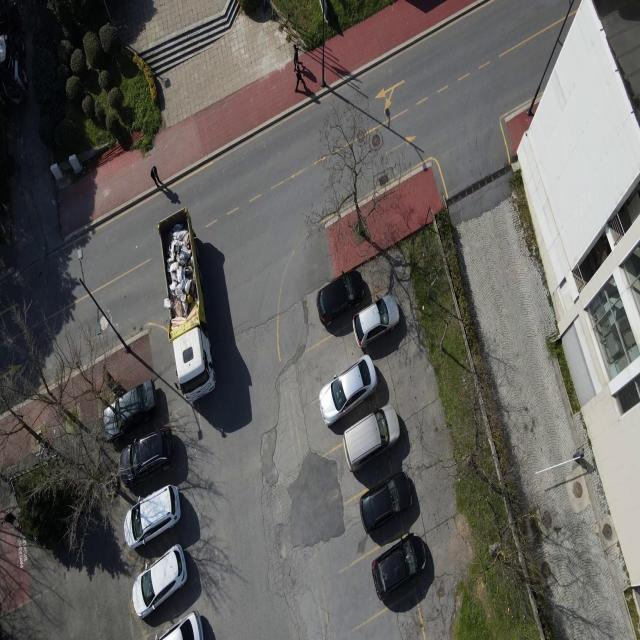p3rson: (149, 164, 165, 192), (294, 61, 304, 96), (291, 42, 300, 72)
